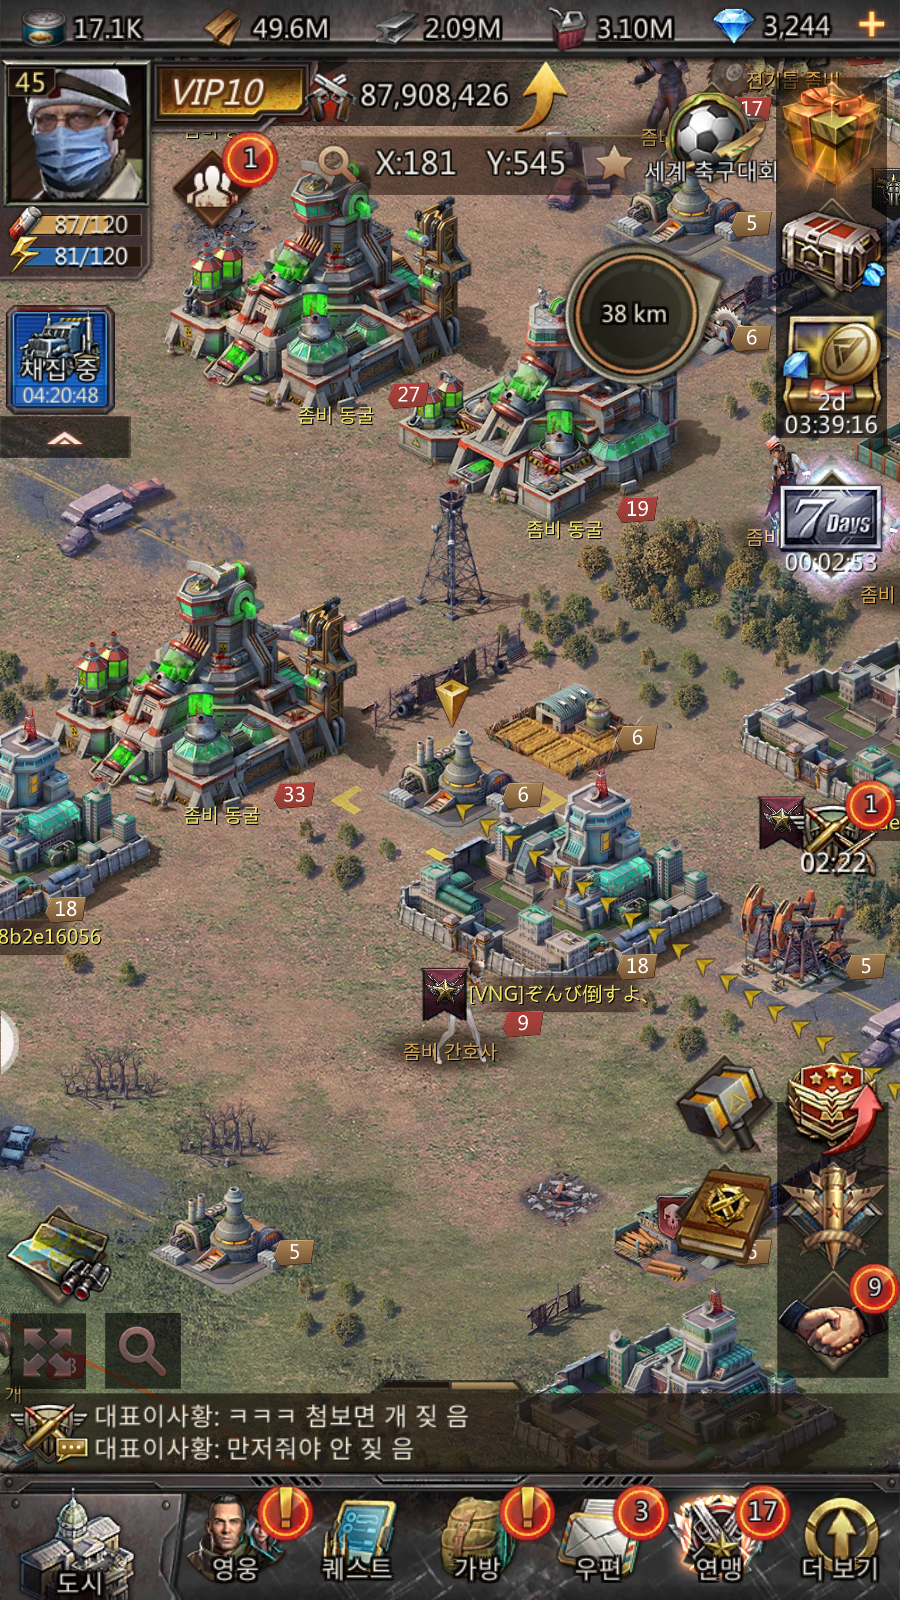city: (11, 1480, 193, 1600)
occupied_steel: (315, 664, 576, 882)
open_panel: (96, 1282, 200, 1415)
troops_cnt_1: (165, 125, 298, 249)
